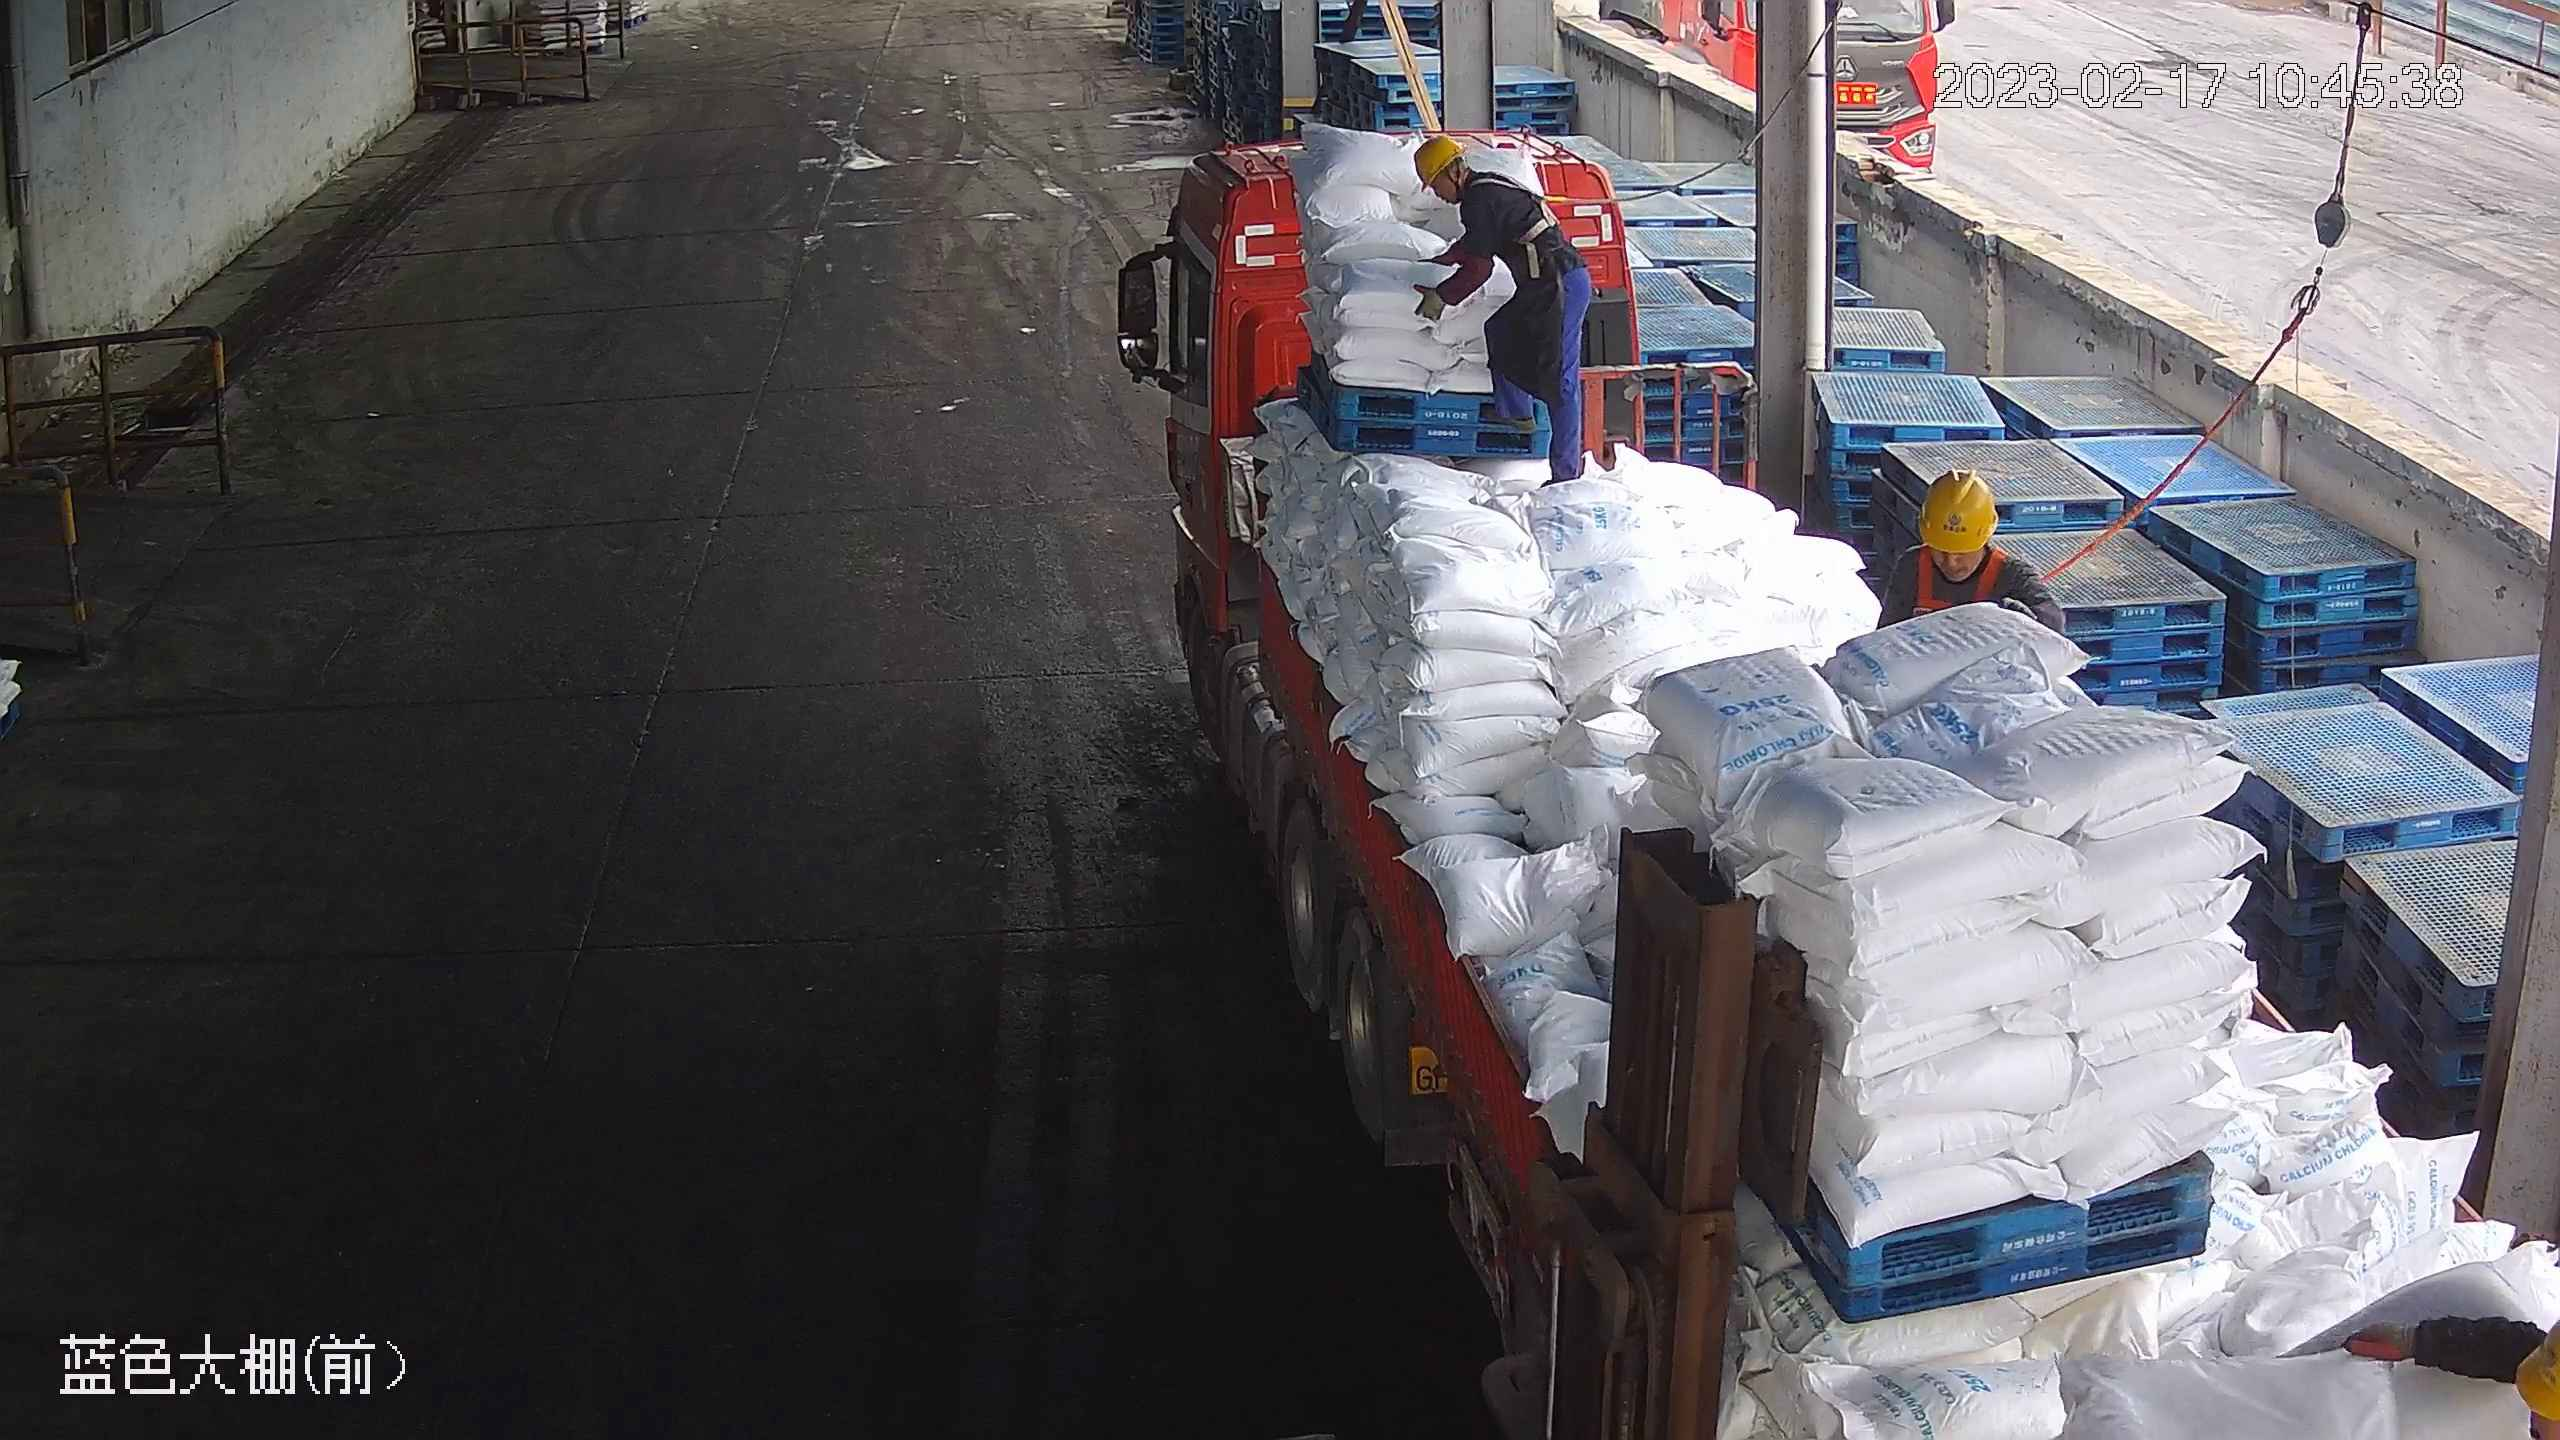belt: (1900, 547, 2083, 627), (1466, 167, 1574, 247)
head: (1867, 472, 2052, 613), (1410, 133, 1545, 262)
helmet: (1920, 467, 2000, 557), (1415, 135, 1471, 193)
people: (1410, 125, 1603, 489)
truck: (1106, 135, 2560, 1440)
